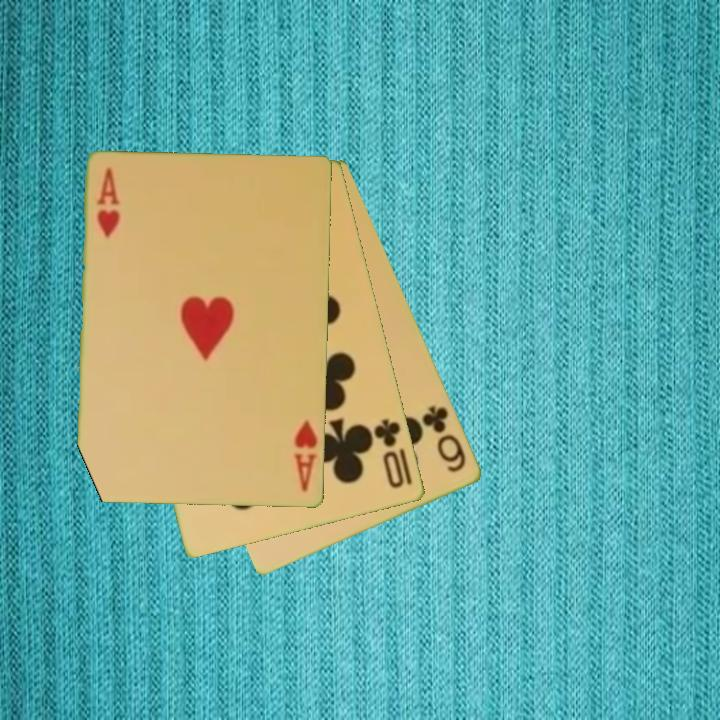10c: (370, 415, 408, 492)
6c: (419, 402, 470, 476)
Ah: (290, 417, 321, 495), (94, 164, 122, 241)
